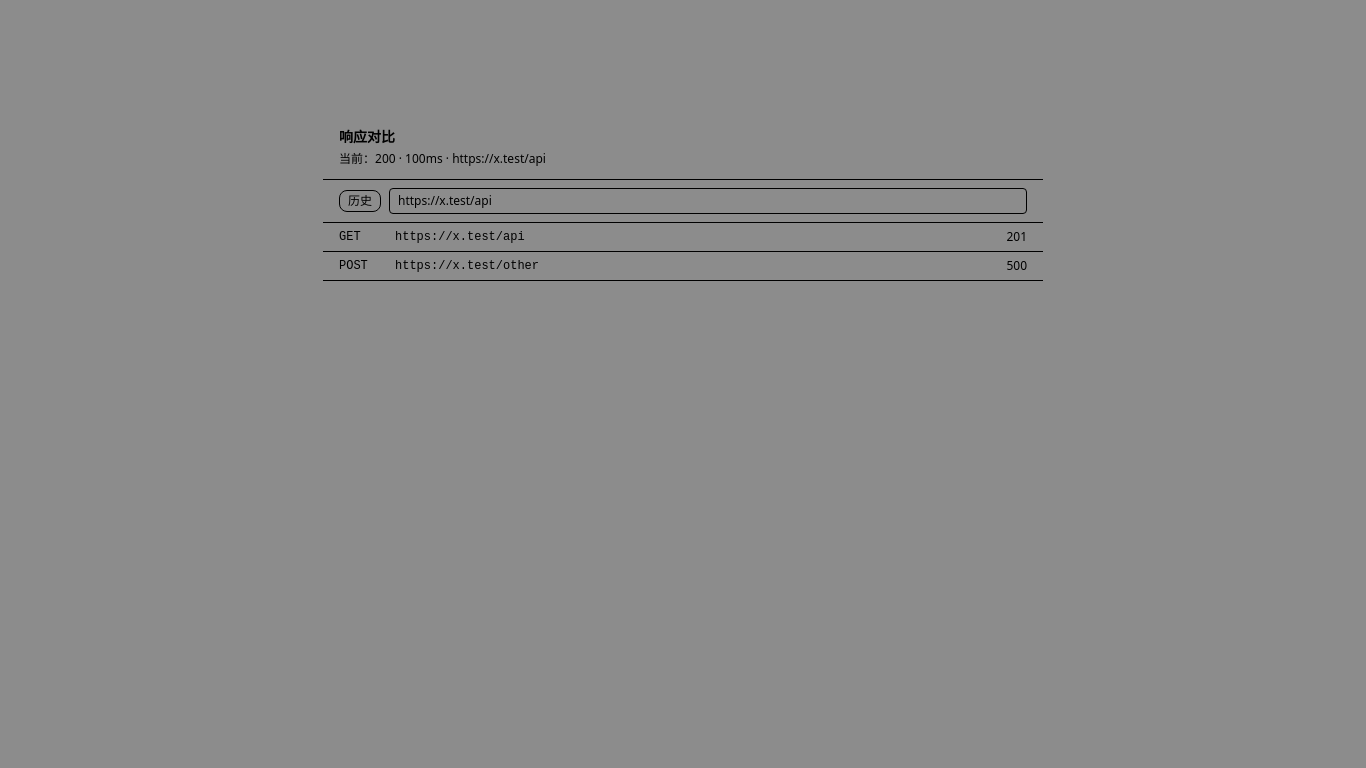
Test: ResponseDiffDialog › lists history entries and shows a normalized JSON diff after picking one
Check: the field with placeholder "搜索 URL / 方法…" holds "https://x.test/api", box [389, 188, 1027, 214]
What coordinates should you click on to do the following:
click the text "https://x.test/api"
I would click on:
 (460, 237)
Its box is [395, 230, 525, 244].
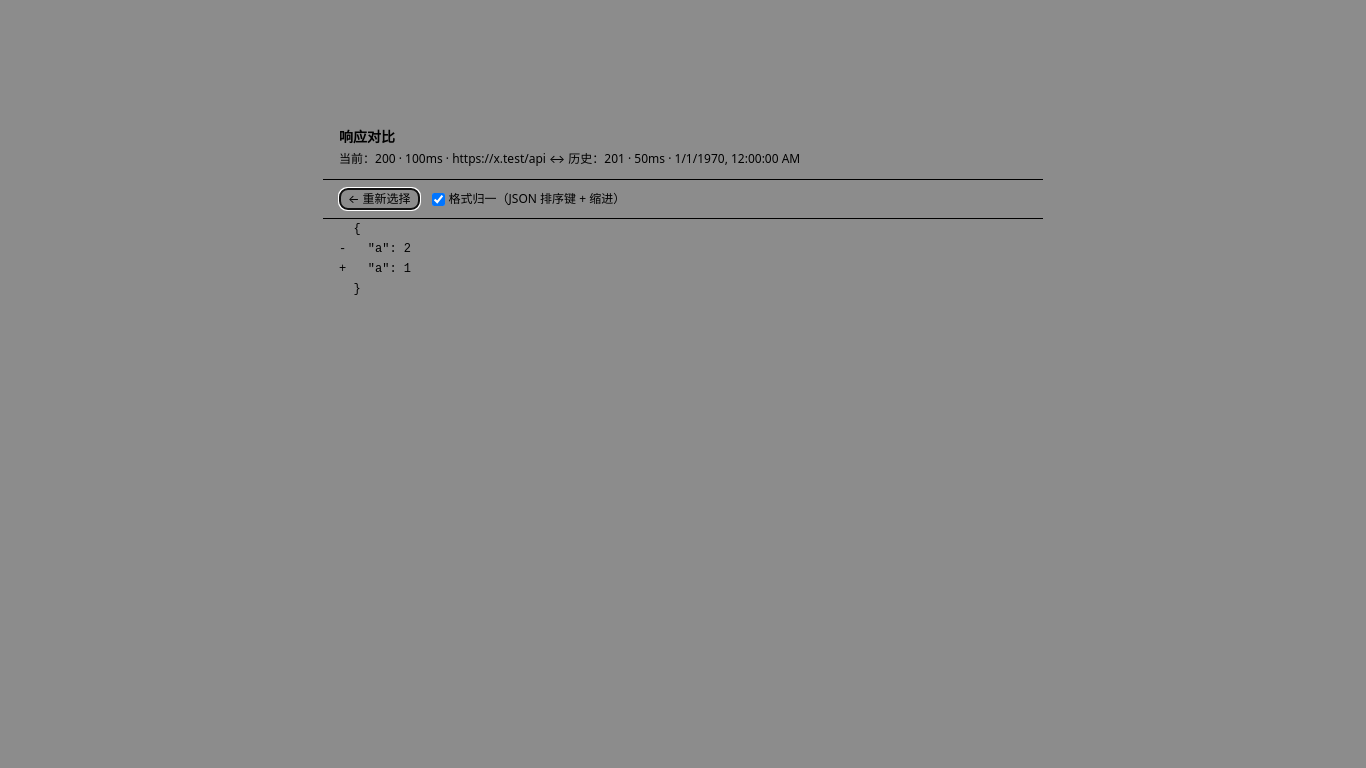
Check: the text "- \"a\": 2" is shown, box [339, 242, 411, 256]
Check: the text "- \"a\": 2" shows "\"a\": 2", box [353, 242, 411, 256]
Check: the text "+ \"a\": 1" shows "\"a\": 1", box [353, 262, 411, 276]
